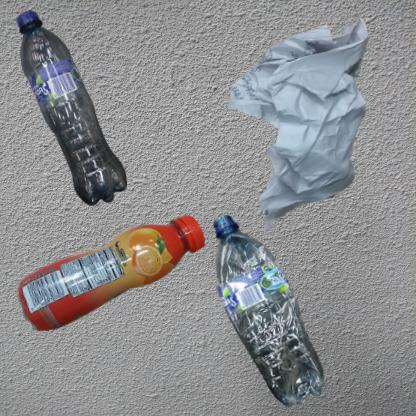botella: (10, 213, 226, 341), (10, 10, 133, 209), (213, 213, 326, 409)
papel: (213, 10, 416, 246)
